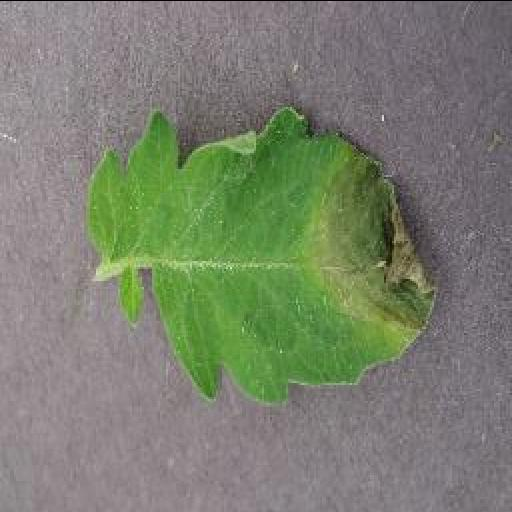disease_tomato: (77, 105, 443, 403)
